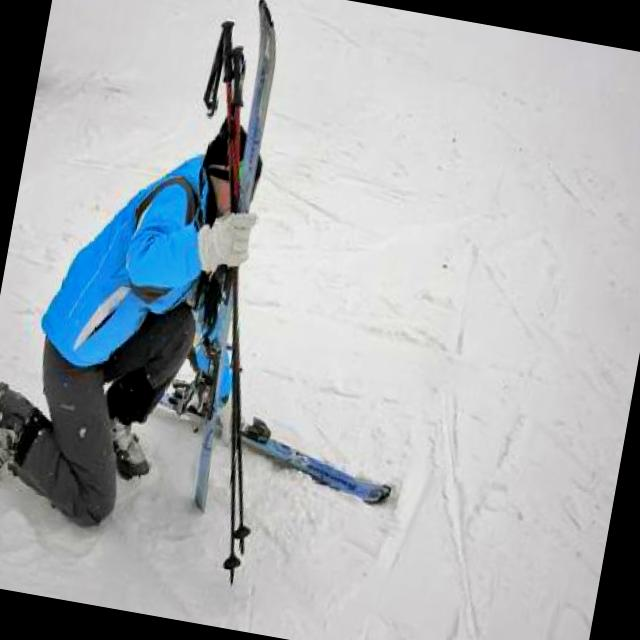Person: (0, 80, 277, 542)
